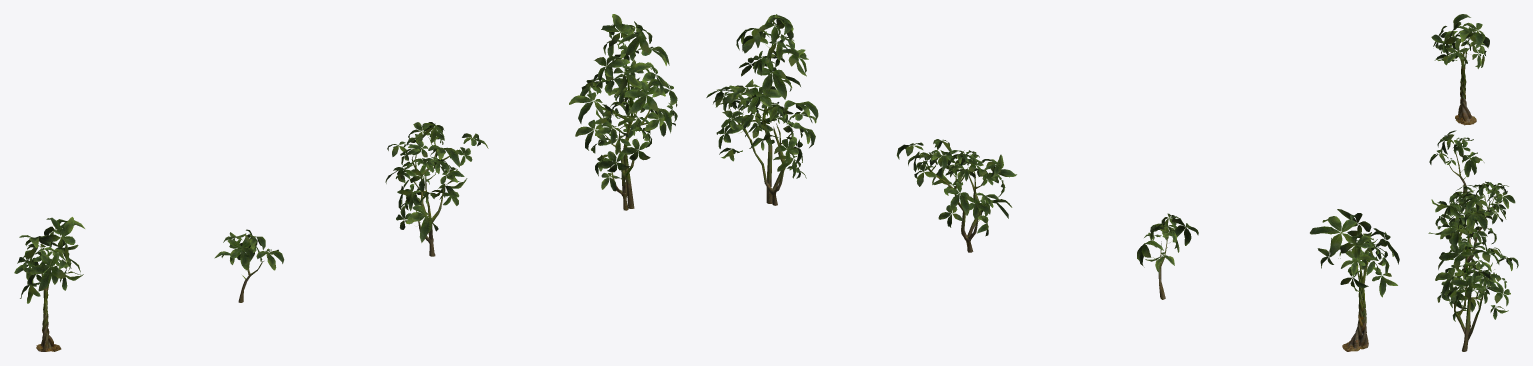
Rendered from pachira_aquatica_01_1k.gltf.
3 renders of one model, left to right at view 1: azimuth 30°, elevation 25°; view 2: azimuth 150°, elevation 25°; view 3: azimuth 270°, elevation 25°, orthographic. The views are drawn at different scales.
Visible parts, largest first — view 1: pachira_aquatica_01_leaves_d_LOD0, pachira_aquatica_01_leaves_c_LOD0, pachira_aquatica_01_leaves_a_LOD0, pachira_aquatica_01_leaves_b_LOD0, pachira_aquatica_01_bark_d_LOD0, pachira_aquatica_01_bark_c_LOD0, pachira_aquatica_01_bark_a_LOD0; view 2: pachira_aquatica_01_leaves_d_LOD0, pachira_aquatica_01_leaves_c_LOD0, pachira_aquatica_01_leaves_a_LOD0, pachira_aquatica_01_leaves_b_LOD0, pachira_aquatica_01_bark_d_LOD0, pachira_aquatica_01_bark_a_LOD0, pachira_aquatica_01_bark_c_LOD0; view 3: pachira_aquatica_01_leaves_d_LOD0, pachira_aquatica_01_leaves_c_LOD0, pachira_aquatica_01_leaves_a_LOD0, pachira_aquatica_01_leaves_b_LOD0, pachira_aquatica_01_bark_d_LOD0, pachira_aquatica_01_bark_a_LOD0, pachira_aquatica_01_bark_c_LOD0, pachira_aquatica_01_bark_b_LOD0.
Part boxes in pixels (x1,y1,x2,y2): pachira_aquatica_01_leaves_d_LOD0: (569,14,677,191); pachira_aquatica_01_leaves_c_LOD0: (385,122,488,242); pachira_aquatica_01_leaves_a_LOD0: (14,217,84,303); pachira_aquatica_01_leaves_b_LOD0: (214,229,284,279); pachira_aquatica_01_bark_d_LOD0: (595,44,652,210); pachira_aquatica_01_bark_c_LOD0: (409,137,457,256); pachira_aquatica_01_bark_a_LOD0: (36,267,61,351); pachira_aquatica_01_leaves_d_LOD0: (706,14,818,178); pachira_aquatica_01_leaves_c_LOD0: (896,139,1016,236); pachira_aquatica_01_leaves_a_LOD0: (1310,209,1399,297); pachira_aquatica_01_leaves_b_LOD0: (1137,213,1198,273); pachira_aquatica_01_bark_d_LOD0: (729,43,793,205); pachira_aquatica_01_bark_a_LOD0: (1342,259,1368,351); pachira_aquatica_01_bark_c_LOD0: (923,159,985,252); pachira_aquatica_01_leaves_d_LOD0: (1428,190,1518,321); pachira_aquatica_01_leaves_c_LOD0: (1431,181,1515,244); pachira_aquatica_01_leaves_a_LOD0: (1431,14,1489,68); pachira_aquatica_01_leaves_b_LOD0: (1429,130,1484,179); pachira_aquatica_01_bark_d_LOD0: (1454,230,1492,351); pachira_aquatica_01_bark_a_LOD0: (1455,50,1476,125); pachira_aquatica_01_bark_c_LOD0: (1453,194,1497,268); pachira_aquatica_01_bark_b_LOD0: (1449,150,1467,195).
Size of what is drawn, in the model's own units: 6.87 by 1.9 by 0.9963.
Materials: 2 (2 with a texture image).
